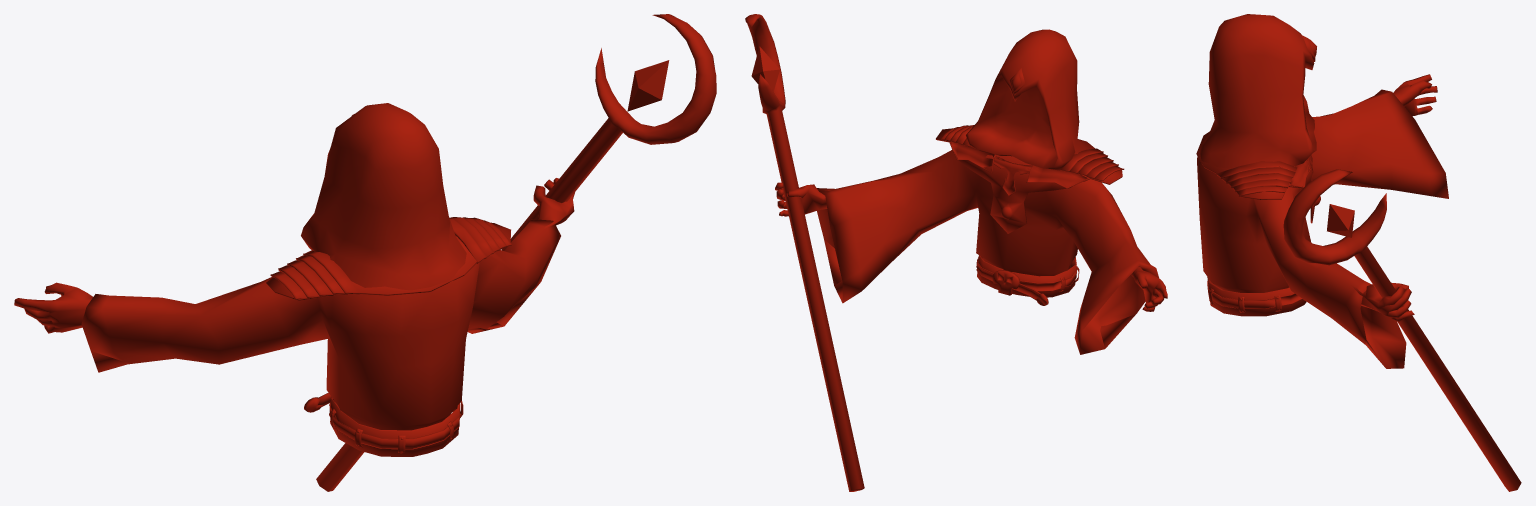
File: top_000052.obj
3 renders of one model, left to right at view 1: azimuth 30°, elevation 25°; view 2: azimuth 150°, elevation 25°; view 3: azimuth 270°, elevation 25°, orthographic. The views are drawn at different scales.
Parts seen in each view (by area): view 1: LowPoly_Warlock.000_Plane.005; view 2: LowPoly_Warlock.000_Plane.005; view 3: LowPoly_Warlock.000_Plane.005.
Part boxes in pixels (x1,y1,x2,y2): LowPoly_Warlock.000_Plane.005: (14, 14, 716, 491); LowPoly_Warlock.000_Plane.005: (745, 14, 1167, 491); LowPoly_Warlock.000_Plane.005: (1196, 14, 1521, 491).
Size of the model in its own units: 2.12 by 1.67 by 1.13.
